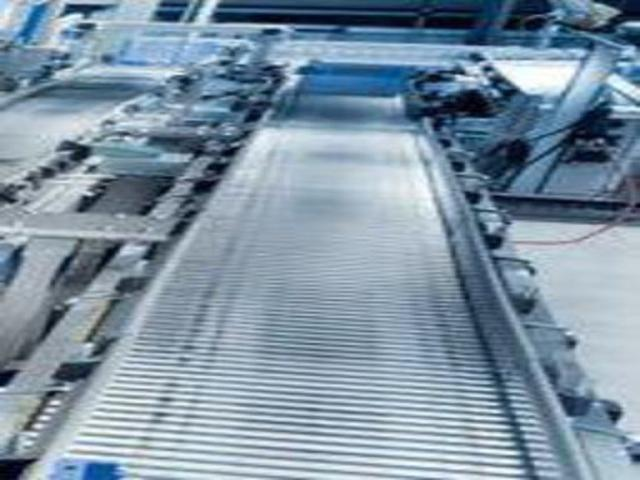conveyor: (5, 56, 623, 479)
